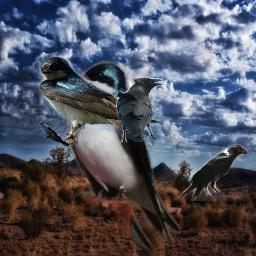Crow: (178, 142, 248, 201), (116, 75, 163, 150)
Cuckoo: (37, 121, 69, 146)
Swallow: (63, 60, 181, 250), (39, 57, 162, 146)
